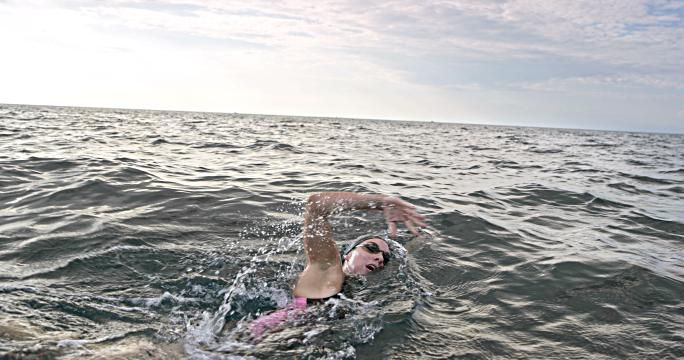swimmer: (247, 188, 424, 341)
